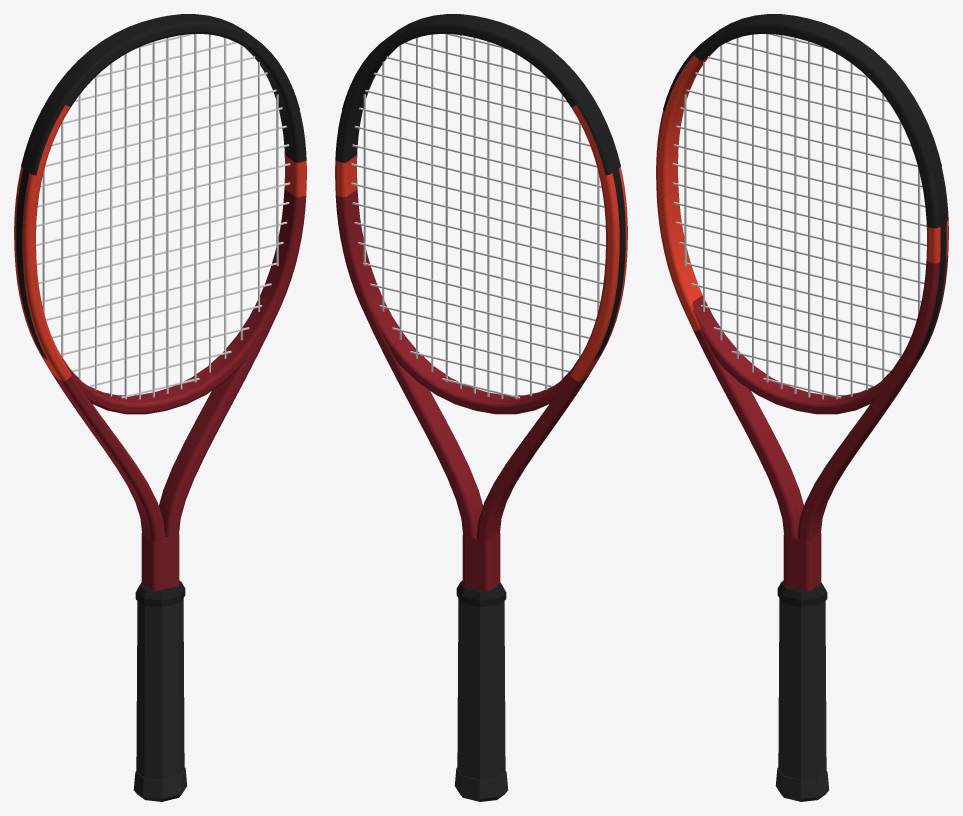
File: dunlop-cx-200-2024.glb
The picture shows the model from 3 angles, left to right: view 1: azimuth 30°, elevation 25°; view 2: azimuth 150°, elevation 25°; view 3: azimuth 330°, elevation 25°; orthographic projection.
Visible parts, largest first — view 1: frame, strings_mains, strings_crosses, grip, bumper, grommets, butt_cap, collar; view 2: frame, strings_mains, strings_crosses, grip, bumper, grommets, butt_cap, collar; view 3: frame, strings_mains, strings_crosses, grip, bumper, grommets, butt_cap, collar.
Boxes of the visible parts, left/top/right/bottom form: frame: left=14, top=26, right=306, bottom=591; strings_mains: left=42, top=34, right=278, bottom=399; strings_crosses: left=36, top=34, right=290, bottom=398; grip: left=136, top=598, right=184, bottom=779; bumper: left=21, top=14, right=299, bottom=175; grommets: left=16, top=168, right=47, bottom=359; butt_cap: left=133, top=768, right=187, bottom=801; collar: left=135, top=580, right=185, bottom=607; frame: left=335, top=26, right=627, bottom=591; strings_mains: left=363, top=34, right=599, bottom=399; strings_crosses: left=351, top=34, right=605, bottom=398; grip: left=457, top=598, right=505, bottom=779; bumper: left=342, top=14, right=620, bottom=175; grommets: left=594, top=168, right=625, bottom=359; butt_cap: left=454, top=768, right=508, bottom=801; collar: left=456, top=580, right=506, bottom=607; frame: left=656, top=26, right=948, bottom=591; strings_mains: left=684, top=34, right=920, bottom=399; strings_crosses: left=672, top=34, right=926, bottom=398; grip: left=778, top=598, right=826, bottom=779; bumper: left=663, top=14, right=941, bottom=175; grommets: left=915, top=168, right=946, bottom=359; butt_cap: left=775, top=768, right=829, bottom=801; collar: left=777, top=580, right=827, bottom=607.
Size of the model in its own units: 0.2634 by 0.6861 by 0.0377.
